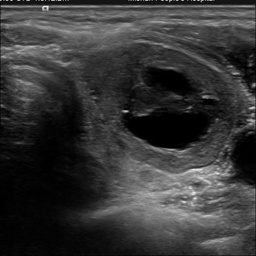mass: (90, 48, 233, 166)
